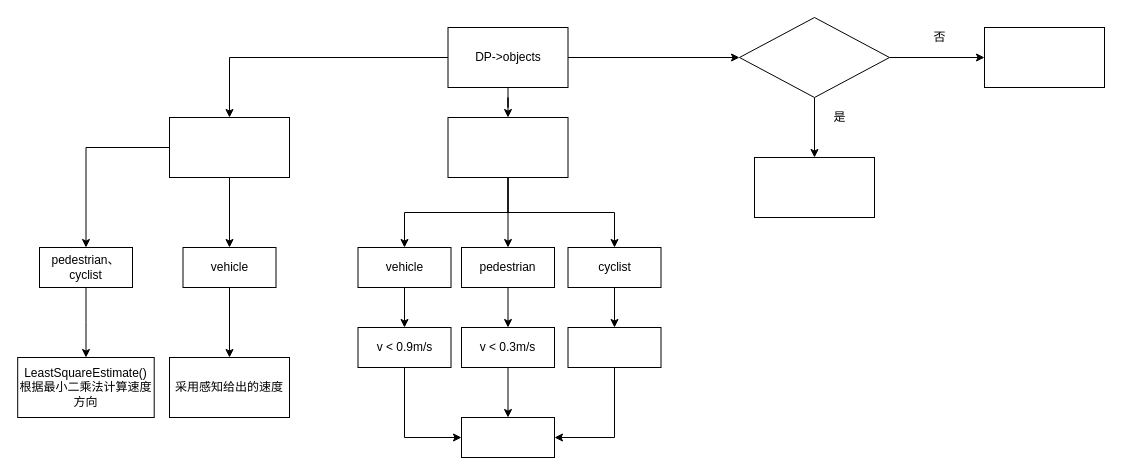
Image size: 1122x475. Some labels were removed from this diagram. The shapes that lost their labels are listed below. From the top down, each one's centre as x and y in pixels, then its label:
the point at 814,57: IsInJunction() 判断障碍物是否在路口内
the point at 229,147: SetVelocity() 根据障碍物类型设定障碍物速度
the point at 507,147: SetMotionStatus() 根据障碍物类型判断障碍物是否静止
the point at 614,347: v < 0.5m/s
the point at 507,437: is_static 障碍物静止
